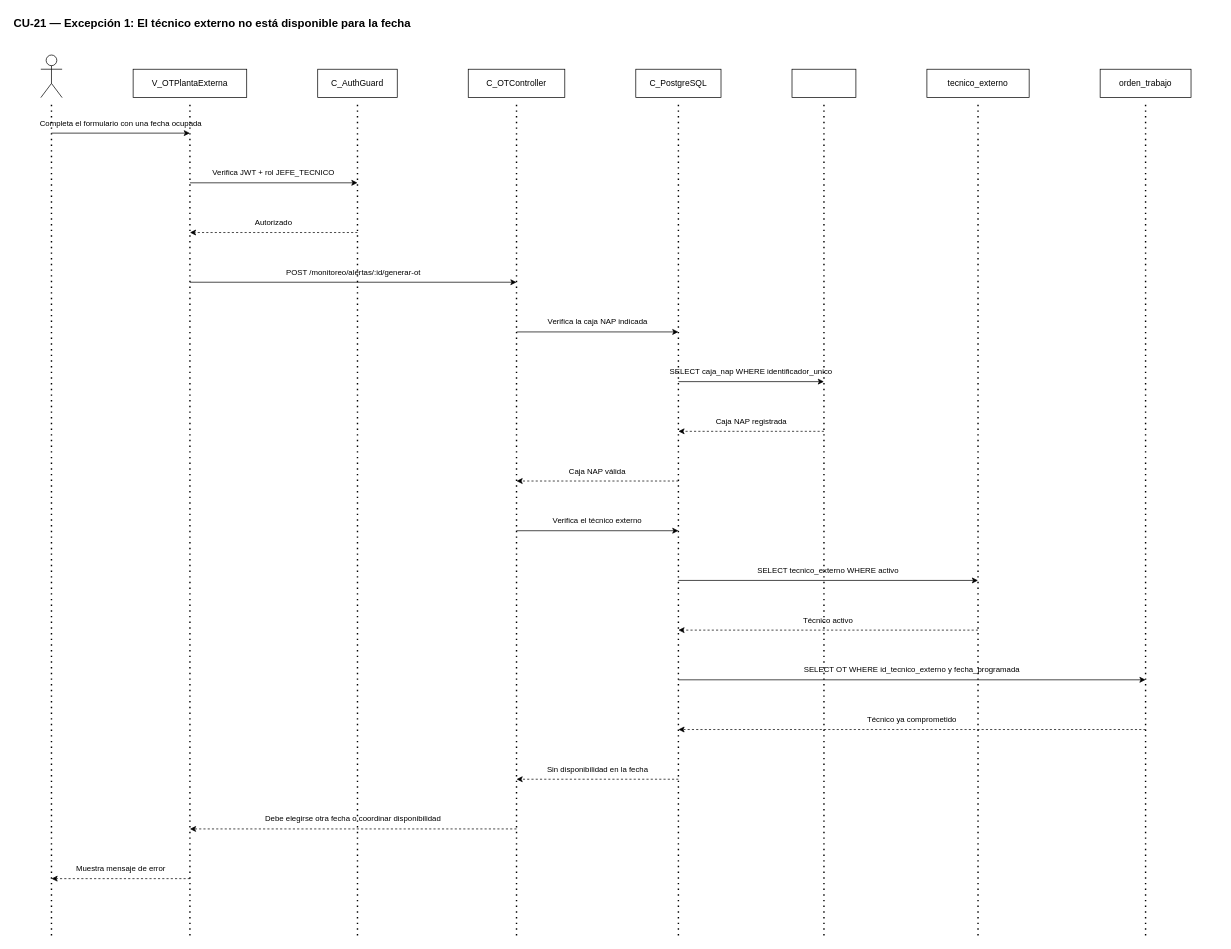
Some shapes in this 1231 by 949 pixel diagram are drawn without their labels. The shapes that lost their labels are listed below. From the top down, each one's centre as x and y in pixels, then its label:
the point at 51,76: Jefe Técnico
the point at 823,83: caja_nap
